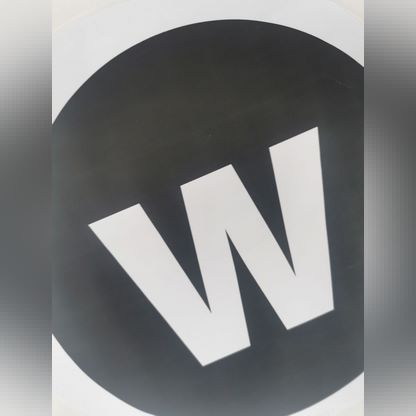W: (56, 21, 367, 411)
